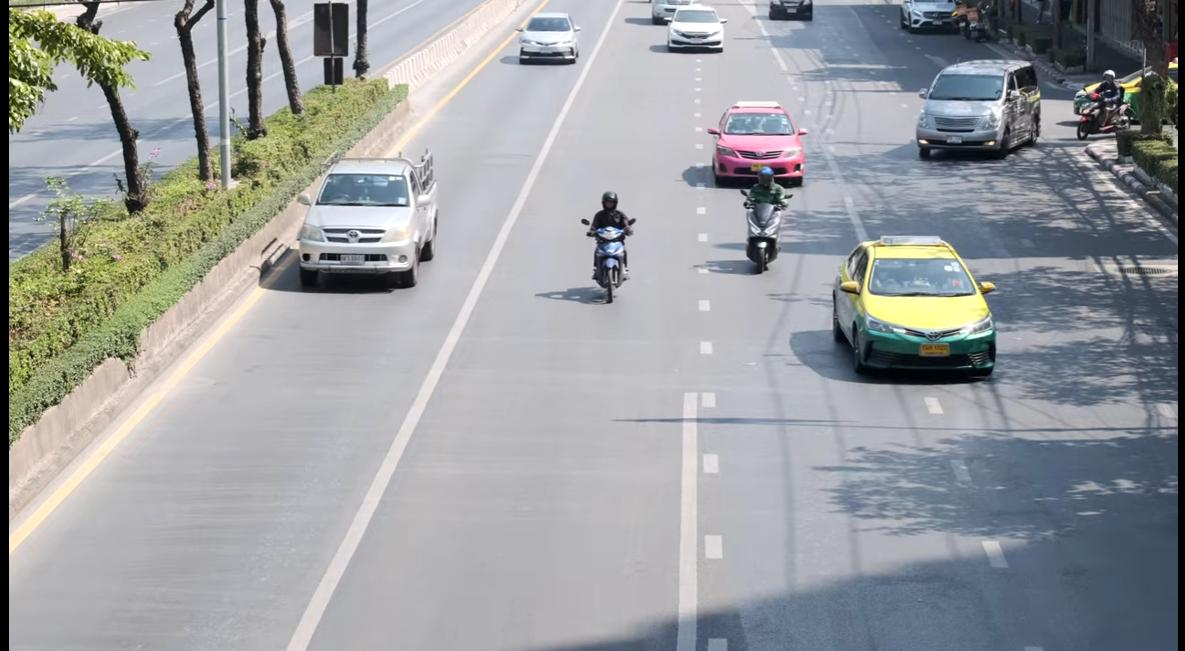car: (823, 230, 1060, 455), (299, 129, 468, 351), (715, 85, 856, 195), (671, 13, 767, 68)
motorcycle: (564, 172, 676, 399), (739, 168, 814, 294), (1078, 65, 1150, 159)
van: (880, 44, 1070, 188)
